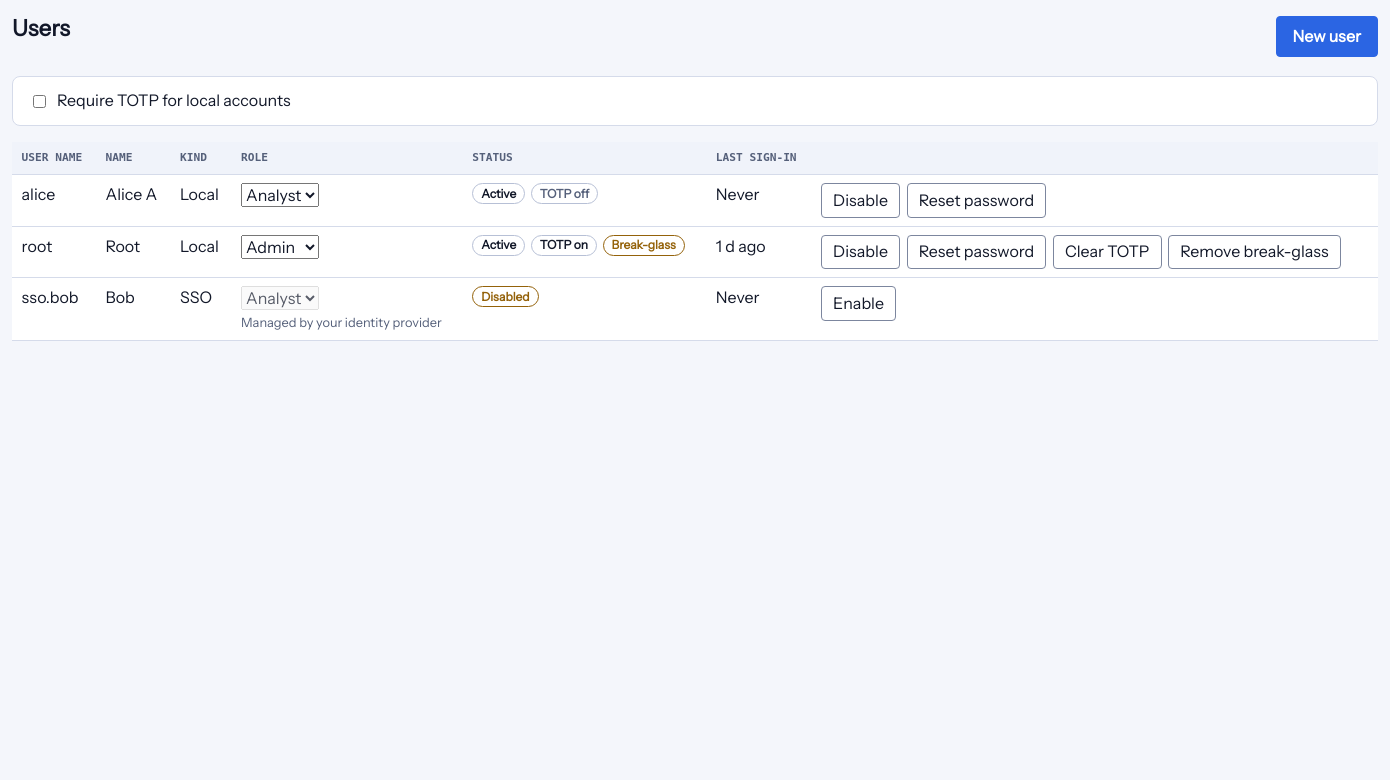
it: UsersAdminPage › last_admin shows "Maldex needs at least one administrator who can sign in."
Expected: the text "root" is shown, [12, 226, 96, 278]
Click the button with aria-label "Disable root": point(860, 252) [821, 235, 900, 270]
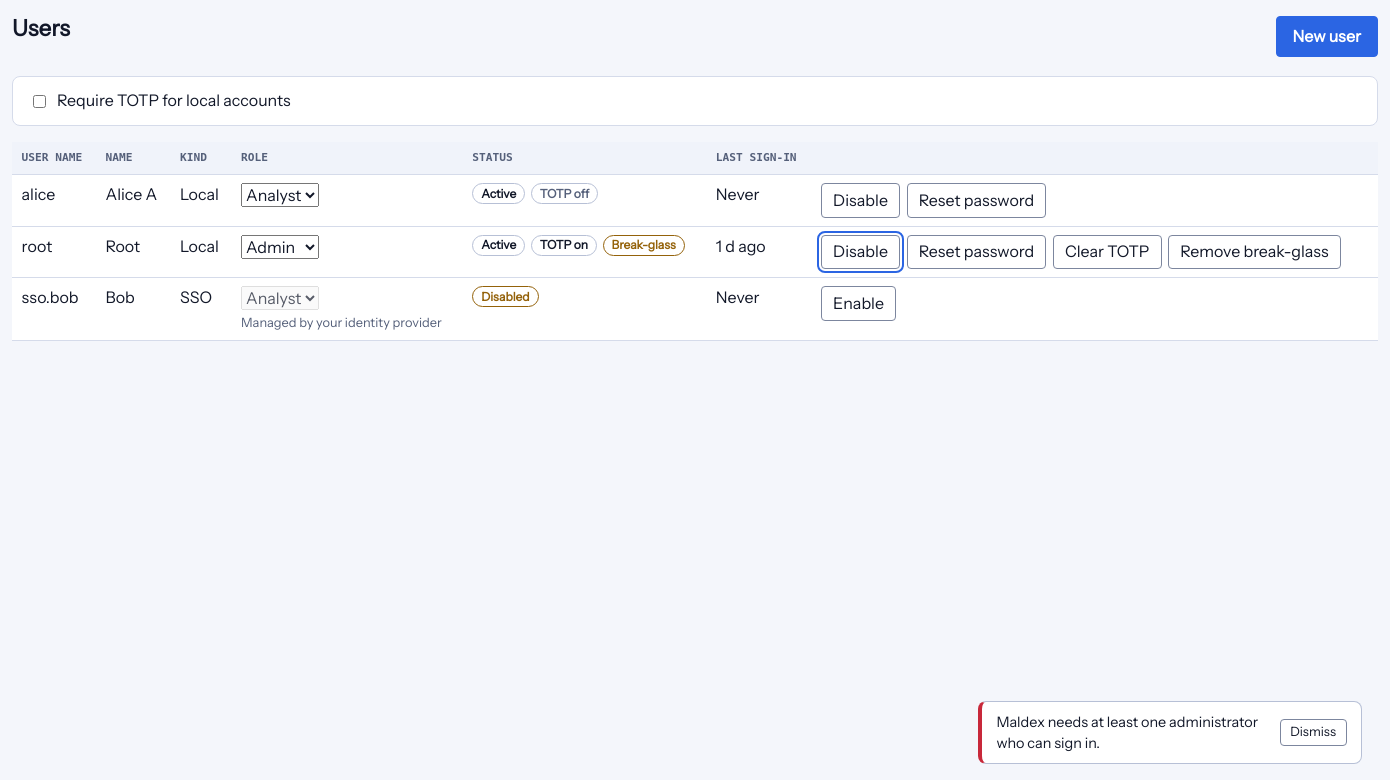
Now the text "Maldex needs at least one administrator who can sign in." is shown, box [996, 712, 1268, 754]
